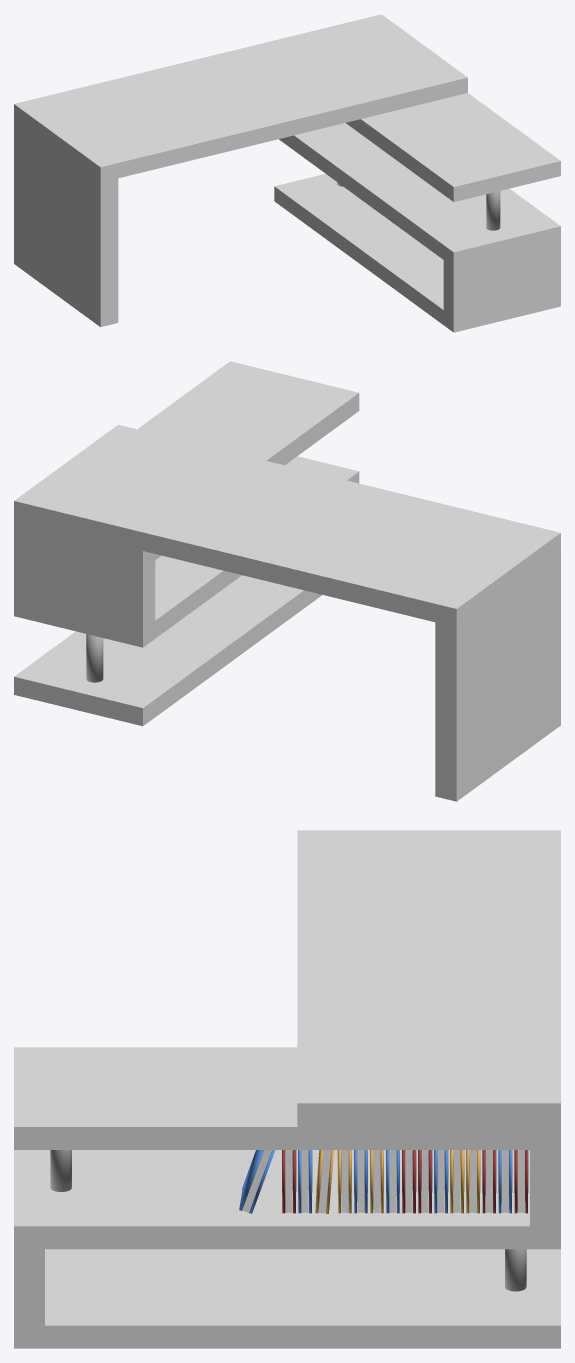
The model's file is l_shaped_desk.glb.
The picture shows the model from 3 angles, top to bottom: view 1: azimuth 30°, elevation 25°; view 2: azimuth 150°, elevation 25°; view 3: azimuth 270°, elevation 25°; orthographic projection. The views are drawn at different scales.
Parts seen in each view (by area): view 1: desk, side_desk, column; view 2: desk, side_desk, column; view 3: side_desk, desk, book_insdie, book_1, book_3, book_2, column.
Part boxes in pixels (x1,y1,x2,y2): desk: [14, 14, 467, 327]; side_desk: [274, 93, 560, 332]; column: [337, 182, 500, 230]; desk: [14, 424, 560, 801]; side_desk: [14, 361, 359, 726]; column: [86, 634, 103, 682]; side_desk: [14, 1047, 560, 1348]; desk: [297, 830, 560, 1126]; book_insdie: [242, 1150, 524, 1213]; book_1: [239, 1150, 512, 1213]; book_3: [315, 1150, 480, 1213]; book_2: [282, 1150, 528, 1213]; column: [50, 1150, 526, 1291].
Size of the model in its own units: 3.53 by 1.48 by 2.99.
